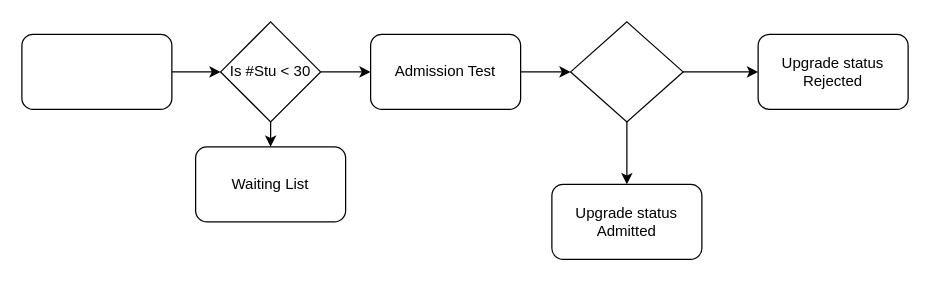
Image size: 930x281. Some labels were removed from this diagram. The shapes that lost their labels are listed below. From the top down, each one's centre as x and y in pixels, then its label:
At (x=96, y=71): "Register Student".
At (x=626, y=71): "Is grade >=51".
